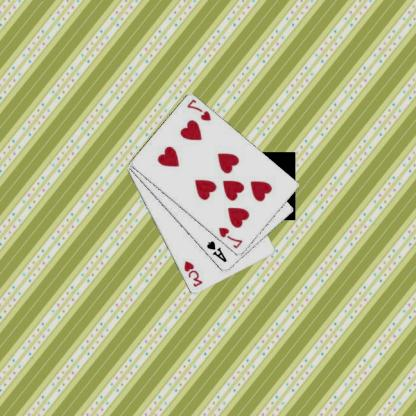3H: (183, 258, 205, 288)
7H: (186, 96, 214, 123), (218, 225, 246, 250)
AS: (205, 238, 230, 264)
